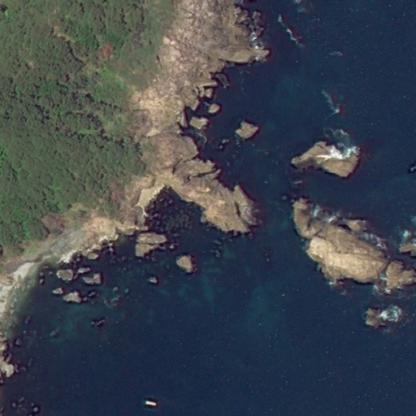ship: (145, 400, 156, 406)
